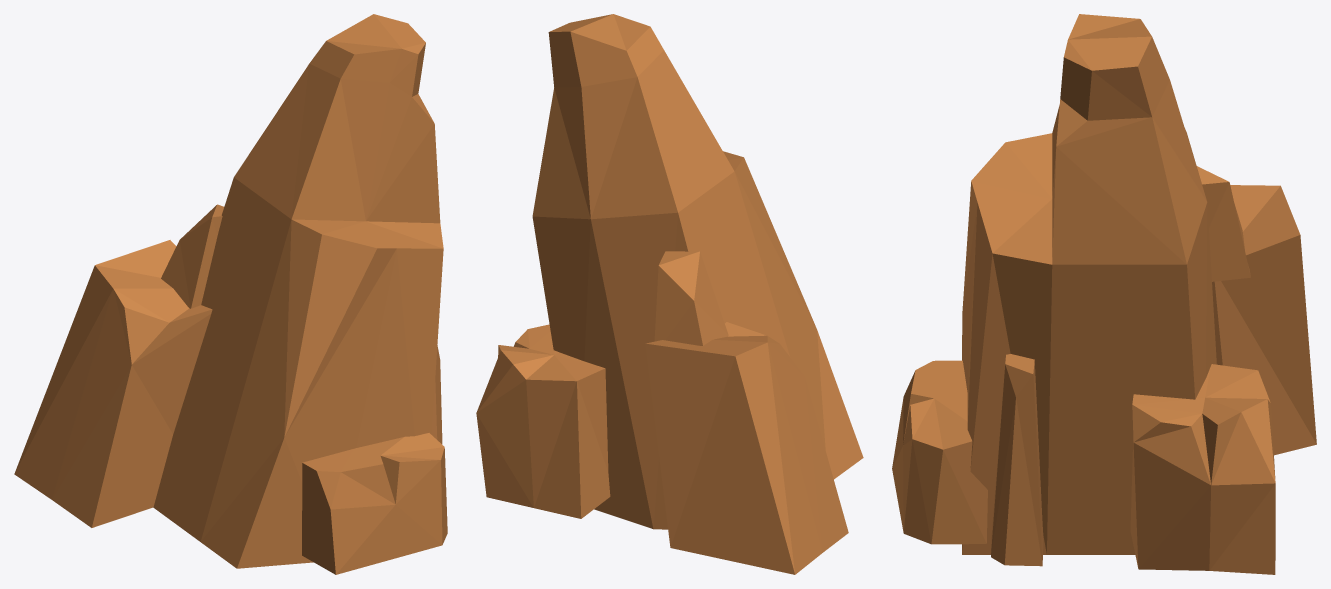
File: RockSharp.fbx
The picture shows the model from 3 angles, left to right: view 1: azimuth 30°, elevation 25°; view 2: azimuth 150°, elevation 25°; view 3: azimuth 270°, elevation 25°; orthographic projection. The views are drawn at different scales.
Parts seen in each view (by area): view 1: 立方体.031; view 2: 立方体.031; view 3: 立方体.031.
Boxes of the visible parts, x1,y1,x2,y2 form: 立方体.031: [14, 14, 447, 574]; 立方体.031: [476, 14, 863, 574]; 立方体.031: [892, 14, 1316, 574].
Bounding box in the file's own units: 573 × 525 × 730.
